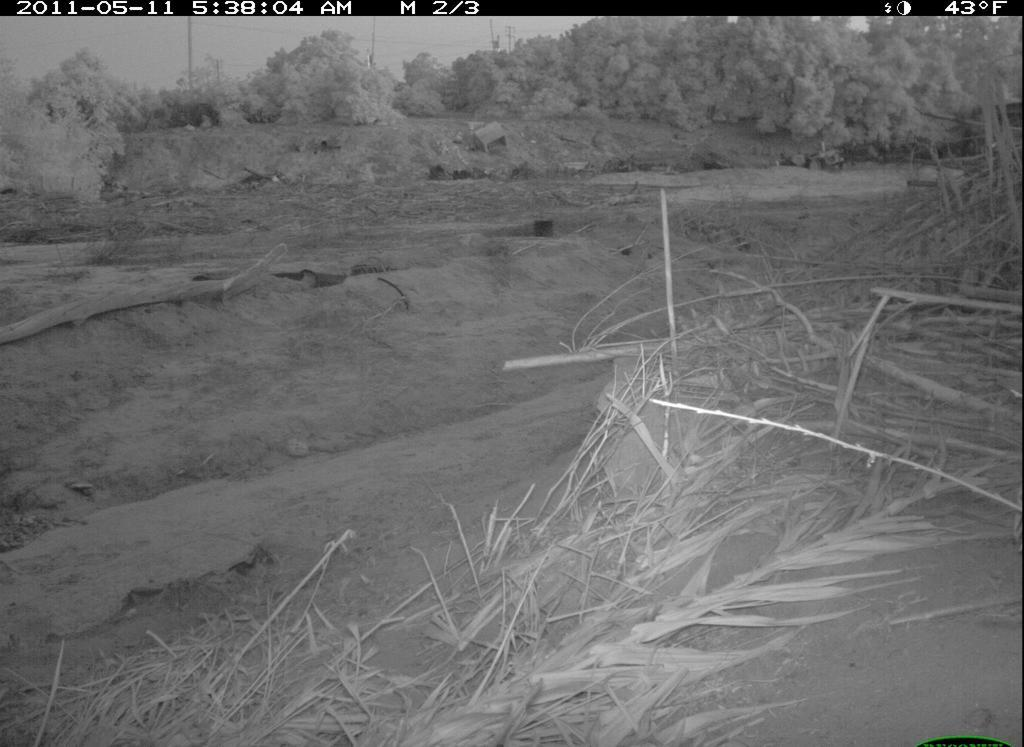rabbit: (56, 501, 372, 710)
